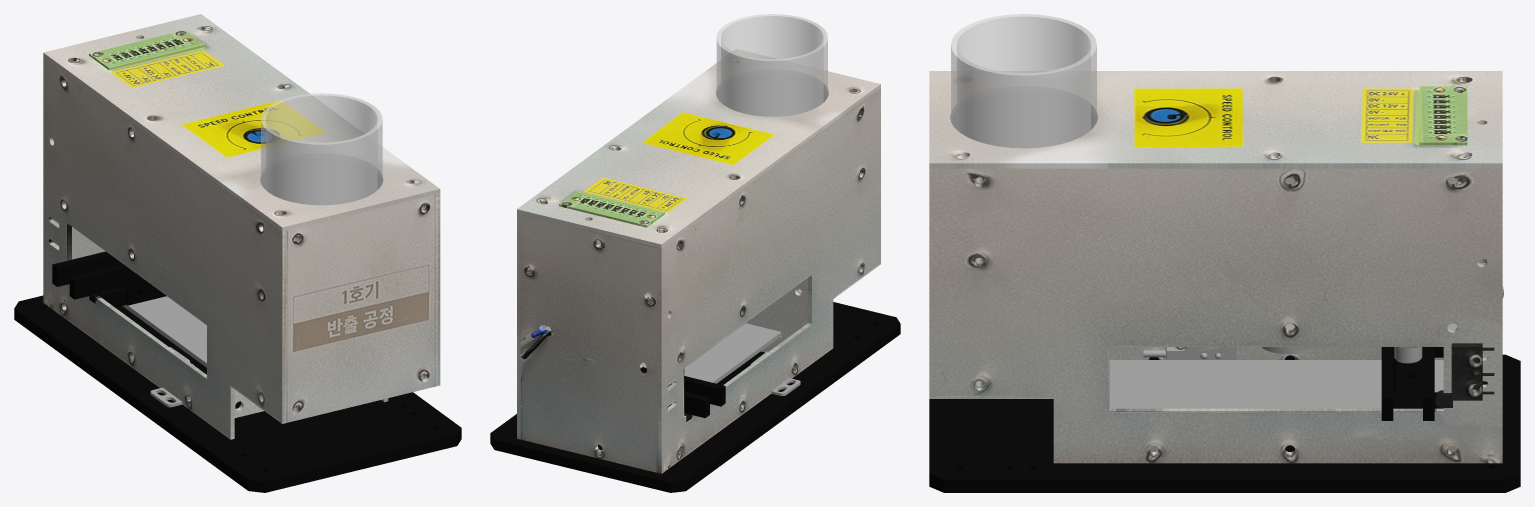
3 renders of one model, left to right at view 1: azimuth 30°, elevation 25°; view 2: azimuth 150°, elevation 25°; view 3: azimuth 270°, elevation 25°, orthographic. The views are drawn at different scales.
Visible parts, largest first — view 1: SIDE_1 (×2), TOP_1, FRONT_1, BASE_2, PIPE, RAIL-part02 (×2), PUSHER, ECHP381V (8P), BACK_1; view 2: SIDE_1 (×2), BACK_1, TOP_1, BASE_2, PIPE, PUSHER, MIDDLE, ECHP381V (8P), RAIL-part02 (×2); view 3: SIDE_1 (×2), TOP_1, BASE_2, PIPE, PUSHER, ECHP381V (8P), uvc3 no1_roller switch, RAIL-part02 (×2), RAIL-part01, as.
Boxes of the visible parts, x1,y1,x2,y2 form: SIDE_1 (×2): [43, 57, 440, 439]; TOP_1: [43, 14, 440, 231]; FRONT_1: [286, 194, 435, 422]; BASE_2: [14, 295, 461, 492]; PIPE: [261, 93, 382, 205]; RAIL-part02 (×2): [52, 251, 166, 305]; PUSHER: [122, 296, 206, 367]; ECHP381V (8P): [89, 30, 204, 70]; BACK_1: [54, 220, 105, 259]; SIDE_1 (×2): [517, 88, 880, 473]; BACK_1: [520, 214, 657, 472]; TOP_1: [517, 49, 880, 248]; BASE_2: [490, 302, 900, 492]; PIPE: [716, 14, 827, 116]; PUSHER: [684, 323, 781, 383]; MIDDLE: [746, 278, 807, 352]; ECHP381V (8P): [559, 191, 664, 227]; RAIL-part02 (×2): [668, 376, 725, 417]; SIDE_1 (×2): [929, 168, 1502, 463]; TOP_1: [929, 71, 1502, 168]; BASE_2: [929, 354, 1520, 492]; PIPE: [951, 14, 1096, 148]; PUSHER: [1109, 360, 1443, 408]; ECHP381V (8P): [1419, 86, 1467, 145]; uvc3 no1_roller switch: [1435, 343, 1494, 407]; RAIL-part02 (×2): [1381, 347, 1434, 420]; RAIL-part01: [1393, 347, 1443, 408]; as: [1143, 347, 1236, 359].
Size of the model in its own units: 0.1 by 0.144 by 0.2.
